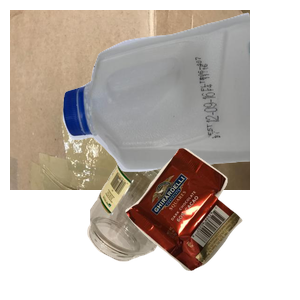cardboard: (10, 10, 250, 190)
glass: (85, 141, 275, 300)
plastic: (60, 10, 300, 175)
trash: (123, 145, 300, 300)
